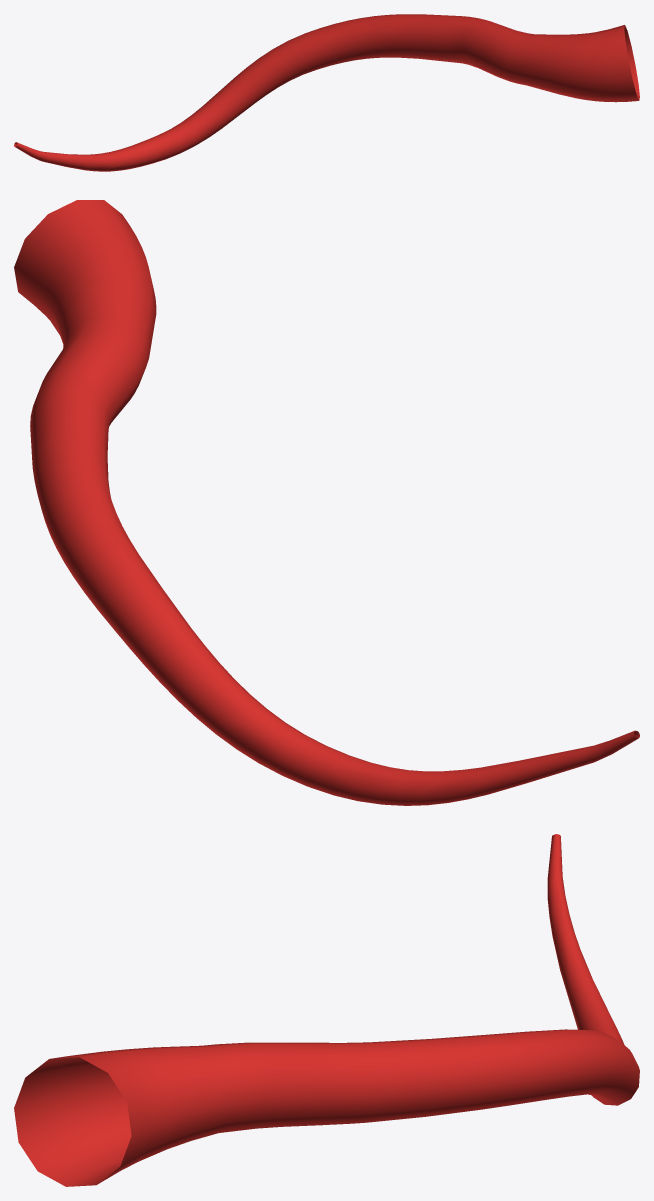
Rendered from circulatorio-posterior-branch-of-renal-artery-r.glb.
3 renders of one model, top to bottom at view 1: azimuth 30°, elevation 25°; view 2: azimuth 150°, elevation 25°; view 3: azimuth 270°, elevation 25°, orthographic. The views are drawn at different scales.
Visible parts, largest first — view 1: Posterior branch of renal artery.r; view 2: Posterior branch of renal artery.r; view 3: Posterior branch of renal artery.r.
Boxes of the visible parts, box(x1,y1,x2,y2) form: Posterior branch of renal artery.r: box(14, 14, 639, 171); Posterior branch of renal artery.r: box(14, 200, 639, 805); Posterior branch of renal artery.r: box(14, 834, 639, 1186).
Size of the model in its own units: 0.0441 by 0.0142 by 0.0279.
